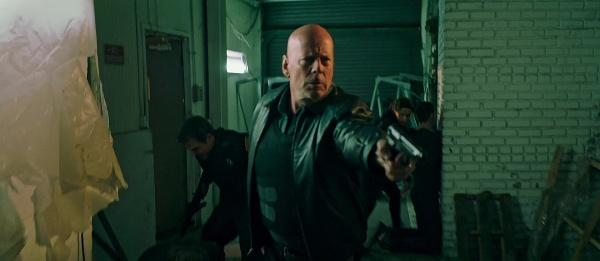Gun: (385, 121, 429, 162)
